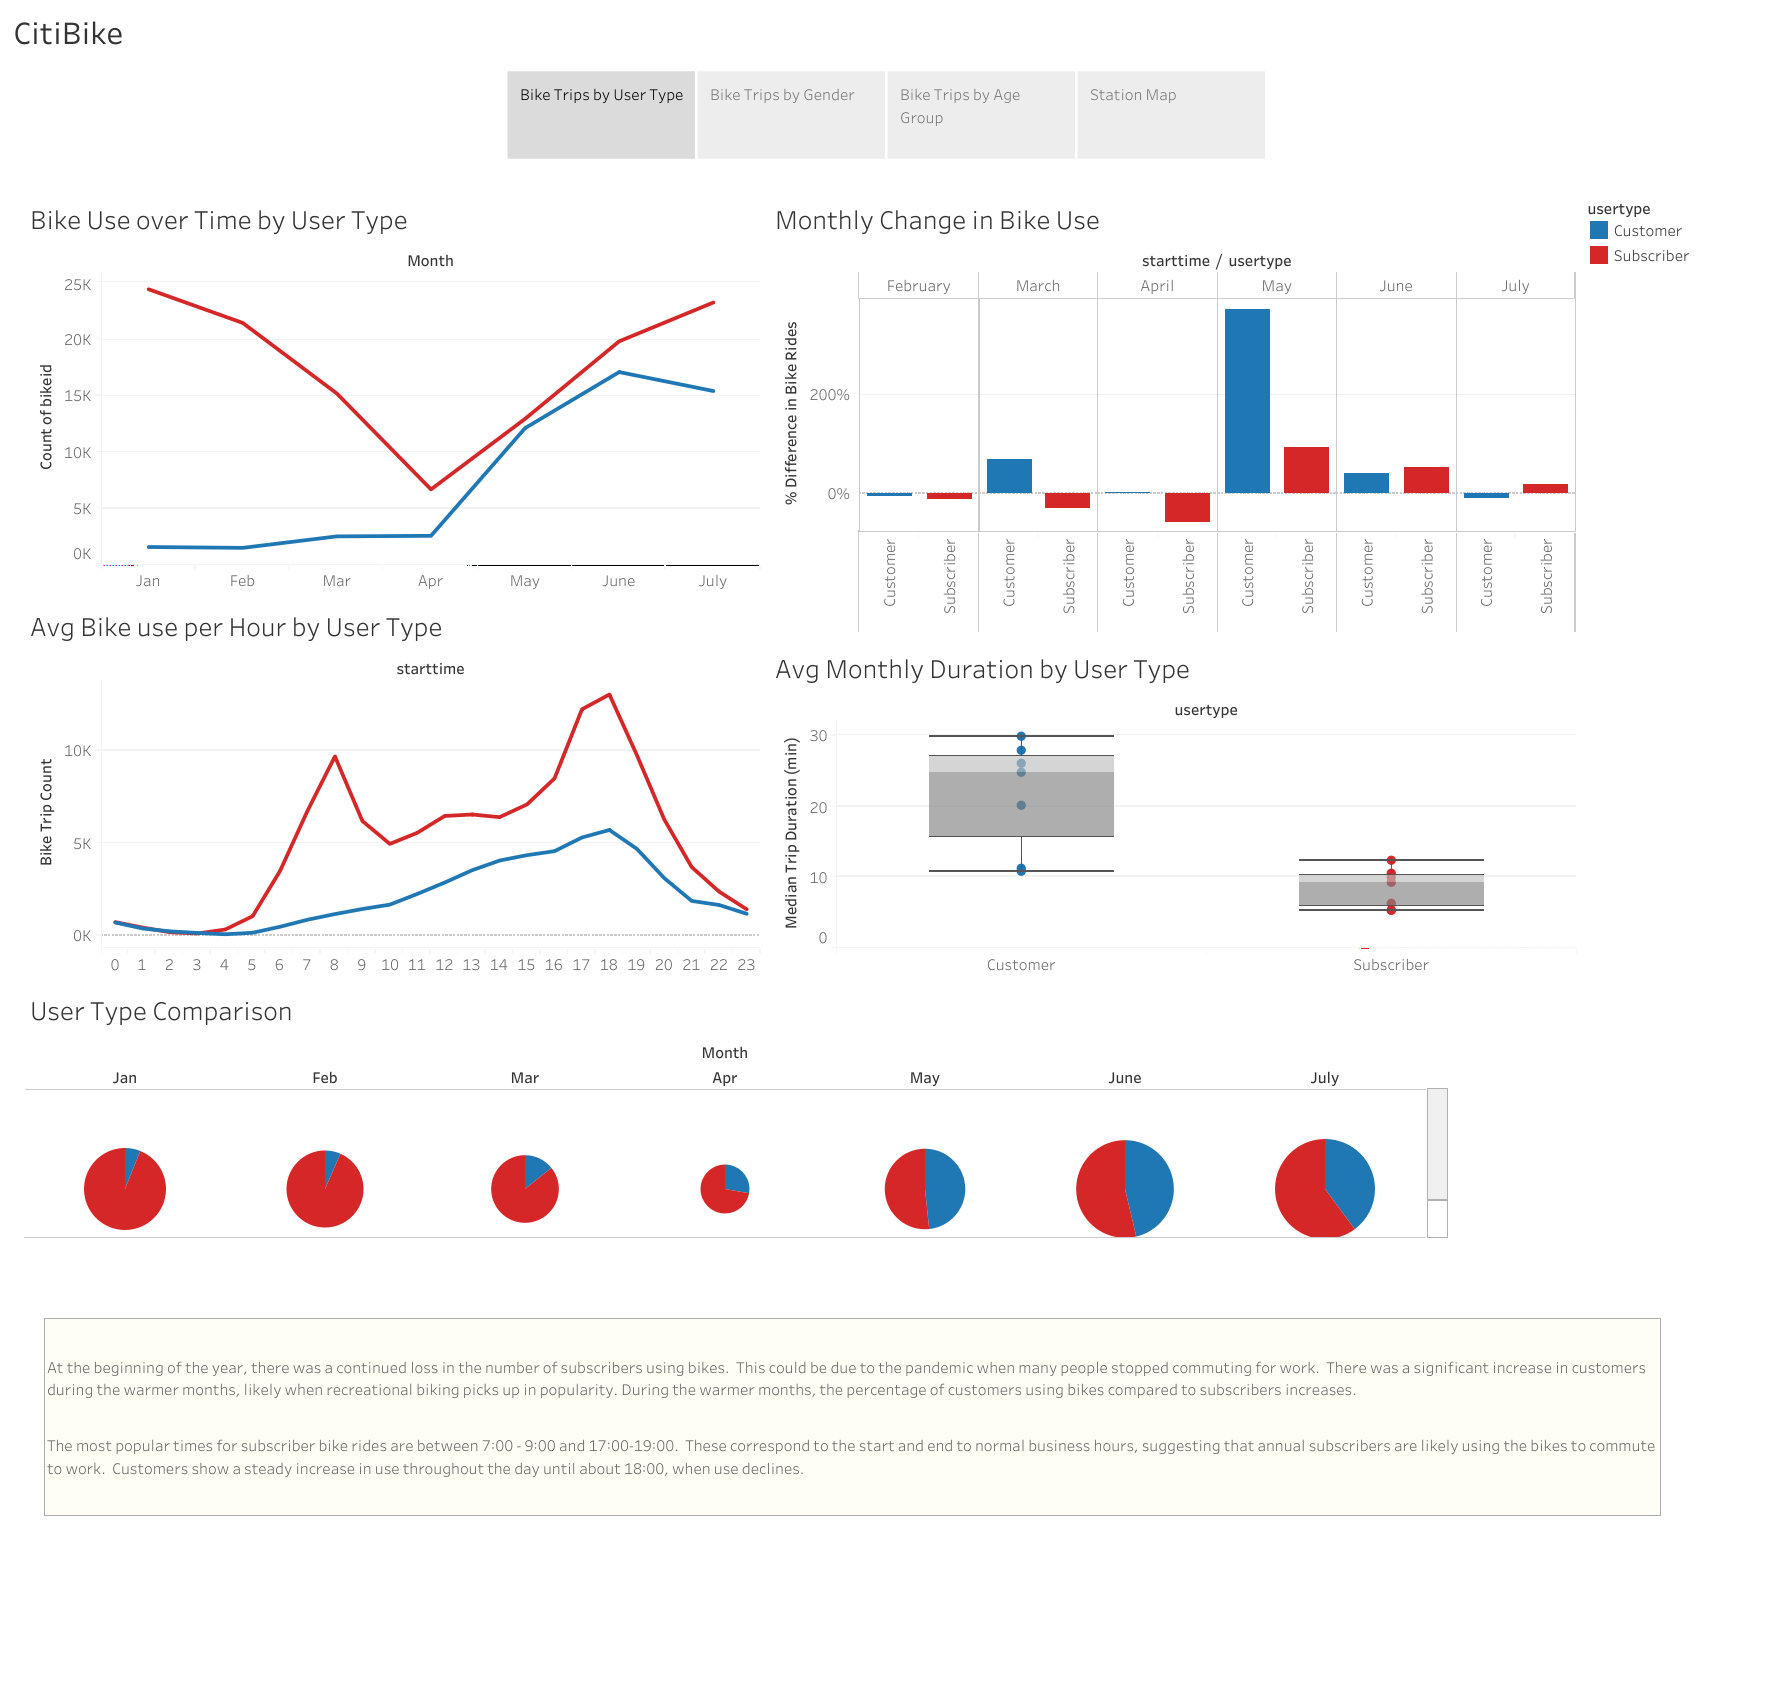

The dashboard page shown, as its layout file describes it:
{"tool":"tableau","page":{"name":"User Type","canvas":[1000,1000],"units":"permille","ordinal":2},"visuals":[{"type":"worksheet","box":[0,0,1000,1000]},{"type":"worksheet","param":"horz","box":[5.6,9.3,988.7,981.4]},{"type":"worksheet","box":[5.6,9.3,879.6,981.4]},{"type":"worksheet","title":"Bike Use over Time by User Type","mark":"Line","rows":["bikeid"],"cols":["Calculation_424745753971064832"],"box":[5.6,9.3,419.7,379.1]},{"type":"worksheet","title":"Monthly Change in Bike Use ","mark":"Bar","cols":["starttime","usertype"],"box":[425.4,9.3,459.9,417.4]},{"type":"worksheet","param":"vert","box":[885.2,9.3,109.2,981.4]},{"type":"worksheet","title":"Bike Use over Time by User Type","mark":"Line","rows":["bikeid"],"cols":["Calculation_424745753971064832"],"param":"[federated.0xu3c9u0codd0c19rlvsa1oefhhu].[none:usertype:nk]","box":[885.2,9.3,109.2,83.7]},{"type":"worksheet","title":"Avg Bike use per Hour by User Type","mark":"Automatic","rows":["bikeid"],"cols":["starttime"],"box":[5.6,388.4,419.7,357]},{"type":"worksheet","title":"Avg Monthly Duration by User Type","mark":"Circle","rows":["Calculation_424745753983160322"],"cols":["usertype"],"box":[425.4,426.7,459.9,318.6]},{"type":"worksheet","title":"User Type Comparison","mark":"Pie","cols":["Calculation_424745753971064832"],"box":[5.6,745.3,879.6,245.4]}]}

Visuals, with their boxes on the dashboard's canvas, which has no fixed pixel size, in thousandths of its width and height (x1, y1, x2, y2). These are canvas units, not pixel positions in the 1769x1704 screenshot, which may show the page scaled, cropped or inside an application window:
worksheet: [0, 0, 1000, 1000]
worksheet: [6, 9, 994, 991]
worksheet: [6, 9, 885, 991]
"Bike Use over Time by User Type" worksheet (Line marks): [6, 9, 425, 388]
"Monthly Change in Bike Use " worksheet (Bar marks): [425, 9, 885, 427]
worksheet: [885, 9, 994, 991]
"Bike Use over Time by User Type" worksheet (Line marks): [885, 9, 994, 93]
"Avg Bike use per Hour by User Type" worksheet: [6, 388, 425, 745]
"Avg Monthly Duration by User Type" worksheet (Circle marks): [425, 427, 885, 745]
"User Type Comparison" worksheet (Pie marks): [6, 745, 885, 991]
